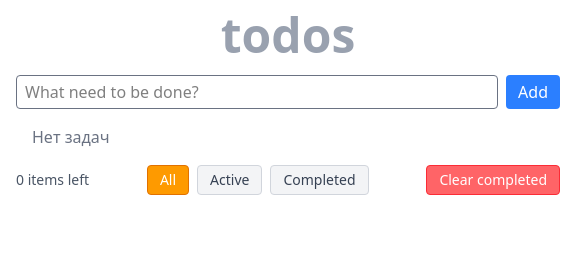
Filter active and completed todo
In the field with placeholder "What need to be done?": point(257, 92) left=16, top=75, right=498, bottom=109, type "Todo 1"
Press Enter in the field with placeholder "What need to be done?", box left=16, top=75, right=498, bottom=109
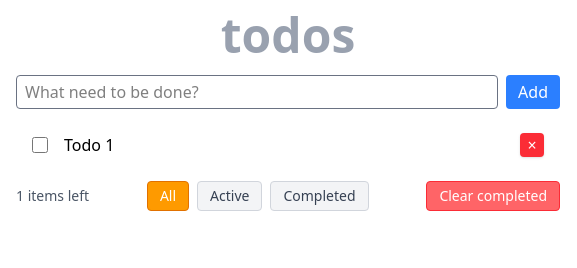
In the field with placeholder "What need to be done?": point(257, 92) left=16, top=75, right=498, bottom=109, type "Todo 2"
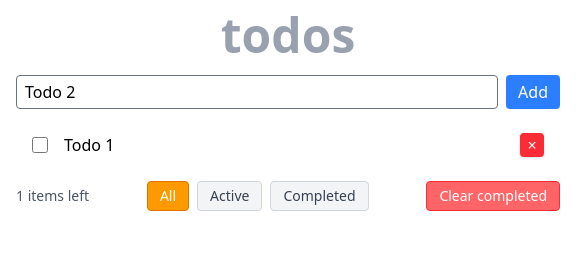
Press Enter in the field with placeholder "What need to be done?", box left=16, top=75, right=498, bottom=109
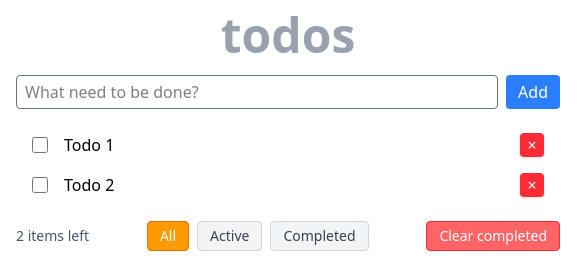
Click the checkbox named "Todo: Todo 1": point(40, 145) left=32, top=137, right=48, bottom=153
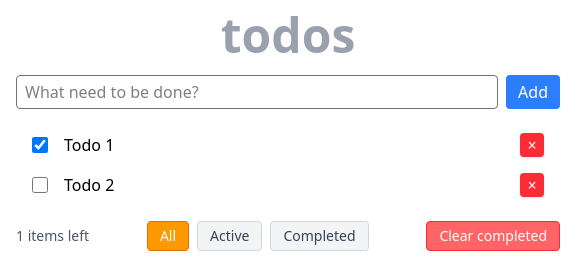
Click the radio button labelled "Active": point(230, 236) left=197, top=221, right=262, bottom=251
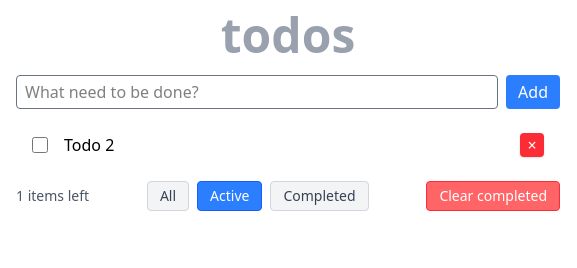
Now the text "Todo 2" is shown, box left=64, top=134, right=114, bottom=156
Now the text "Todo 1" is gone
Click the radio button labelled "Completed": point(319, 196) left=270, top=181, right=368, bottom=211
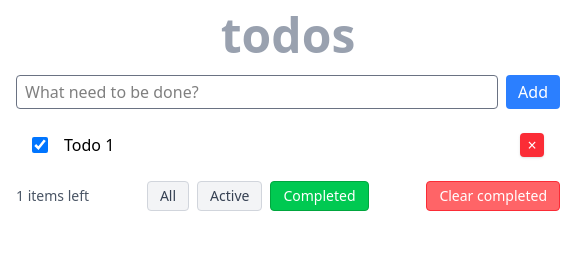
Now the text "Todo 1" is shown, box left=64, top=134, right=114, bottom=156
